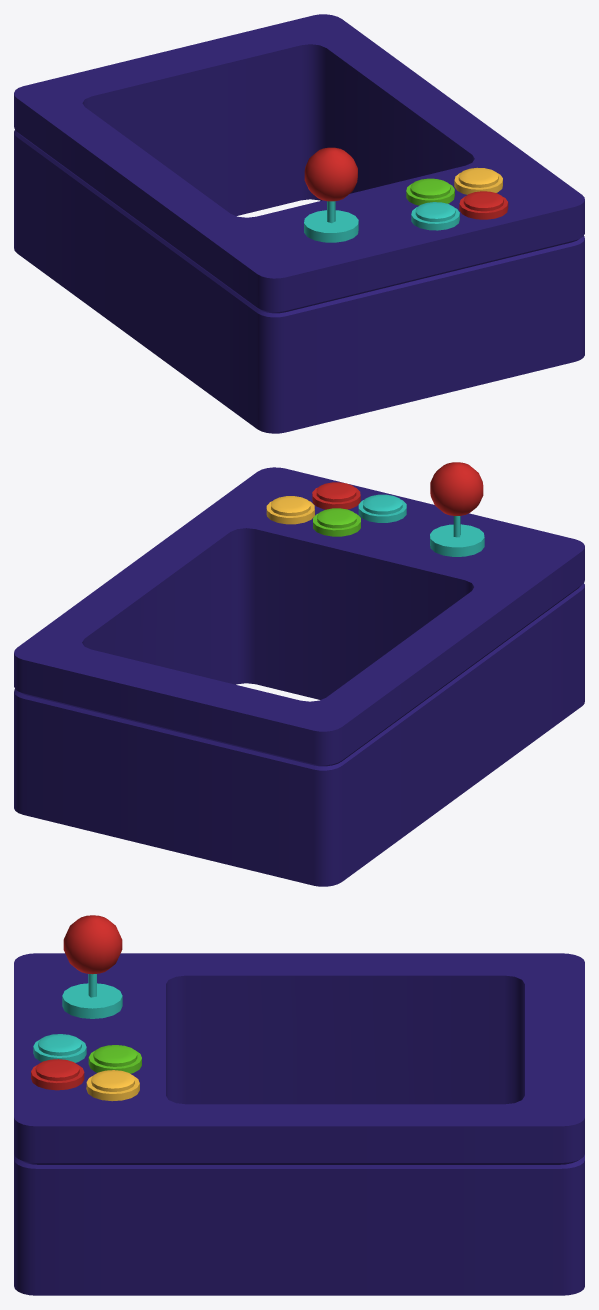
File: Gameboy.fbx
3 views of the same model, one above another, from view 1: azimuth 30°, elevation 25°; view 2: azimuth 150°, elevation 25°; view 3: azimuth 270°, elevation 25° (orthographic). The views are drawn at different scales.
Parts seen in each view (by area): view 1: Cube.015, Cube.025; view 2: Cube.015, Cube.025; view 3: Cube.015, Cube.025.
Boxes of the visible parts, x1=… form: Cube.015: x1=14, y1=14, x2=584, y2=433; Cube.025: x1=304, y1=147, x2=357, y2=223; Cube.015: x1=14, y1=467, x2=584, y2=886; Cube.025: x1=430, y1=462, x2=483, y2=537; Cube.015: x1=14, y1=953, x2=584, y2=1295; Cube.025: x1=63, y1=915, x2=122, y2=997.
Bounding box in the file's own units: 404 × 563 × 281.
